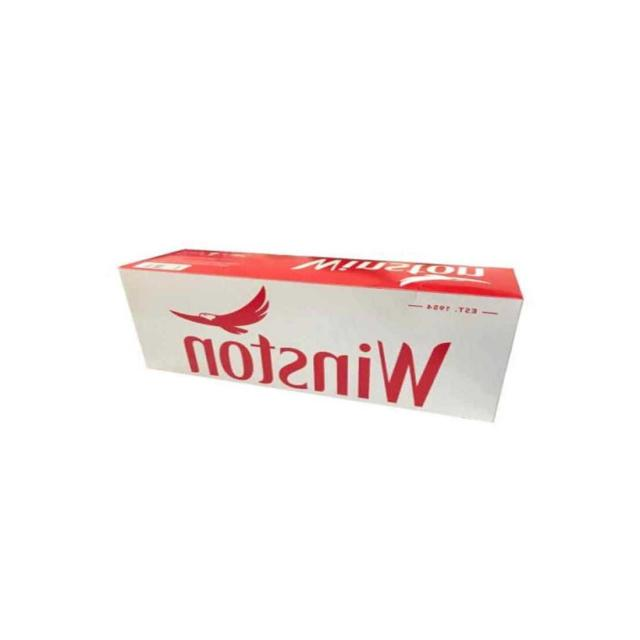winston: (102, 240, 514, 426)
